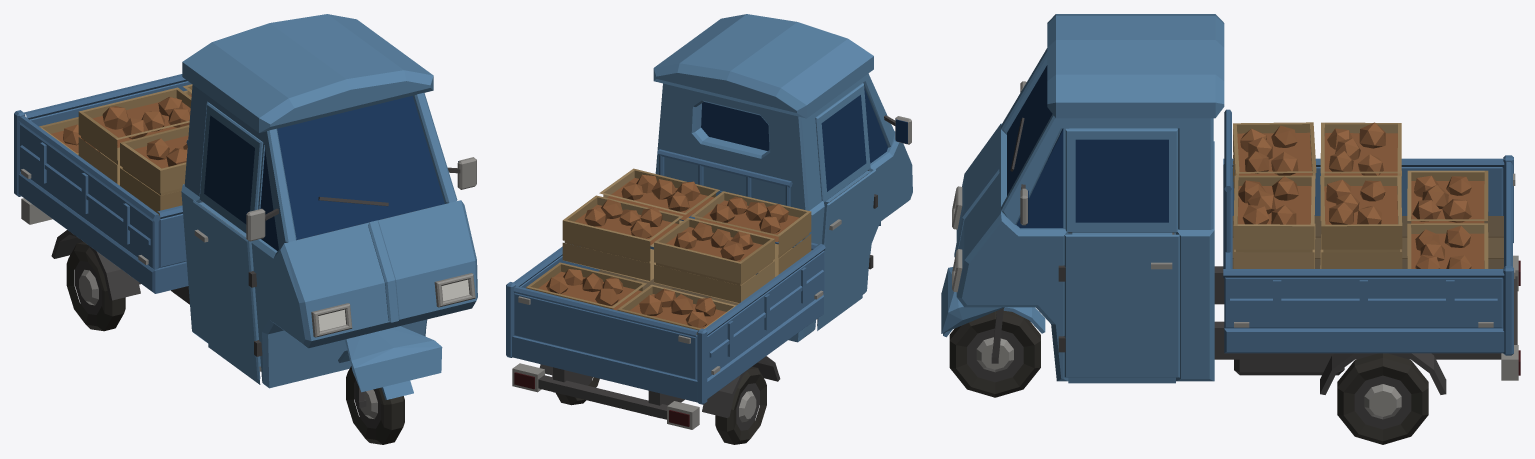
File: three-wheeled-delivery-mini-744094.glb
3 renders of one model, left to right at view 1: azimuth 30°, elevation 25°; view 2: azimuth 150°, elevation 25°; view 3: azimuth 270°, elevation 25°, orthographic. The views are drawn at different scales.
Parts seen in each view (by area): view 1: body, door-right-mesh, load-mesh, fork, wheel-rr-mesh, wheel-front-mesh; view 2: body, load-mesh, door-right-mesh, wheel-rr-mesh; view 3: body, load-mesh, door-left-mesh, wheel-rl-mesh, wheel-front-mesh, fork.
Part boxes in pixels (x1=…): body: x1=14, y1=14, x2=477, y2=388; door-right-mesh: x1=193, y1=102, x2=263, y2=380; load-mesh: x1=39, y1=84, x2=192, y2=215; fork: x1=338, y1=326, x2=442, y2=408; wheel-rr-mesh: x1=66, y1=242, x2=125, y2=331; wheel-front-mesh: x1=346, y1=366, x2=404, y2=444; body: x1=506, y1=14, x2=912, y2=429; load-mesh: x1=526, y1=168, x2=811, y2=334; door-right-mesh: x1=815, y1=83, x2=875, y2=326; wheel-rr-mesh: x1=715, y1=366, x2=766, y2=444; body: x1=952, y1=14, x2=1520, y2=394; load-mesh: x1=1233, y1=122, x2=1488, y2=268; door-left-mesh: x1=1064, y1=128, x2=1179, y2=377; wheel-rl-mesh: x1=1337, y1=353, x2=1428, y2=444; wheel-front-mesh: x1=949, y1=311, x2=1040, y2=397; fork: x1=941, y1=267, x2=1045, y2=363.
Bounding box in the file's own units: 1.44 × 2.04 × 3.01.
